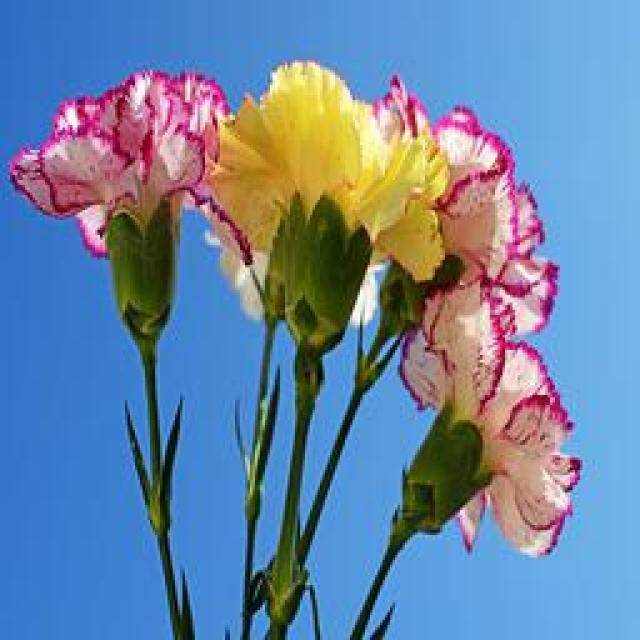carnation: (200, 56, 468, 353)
